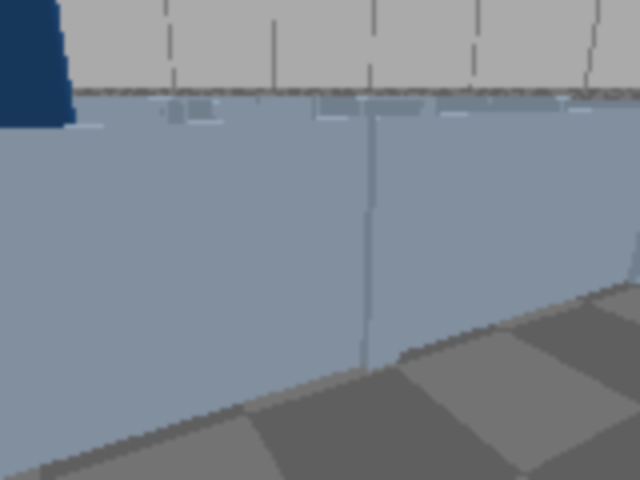person: (0, 0, 92, 249)
